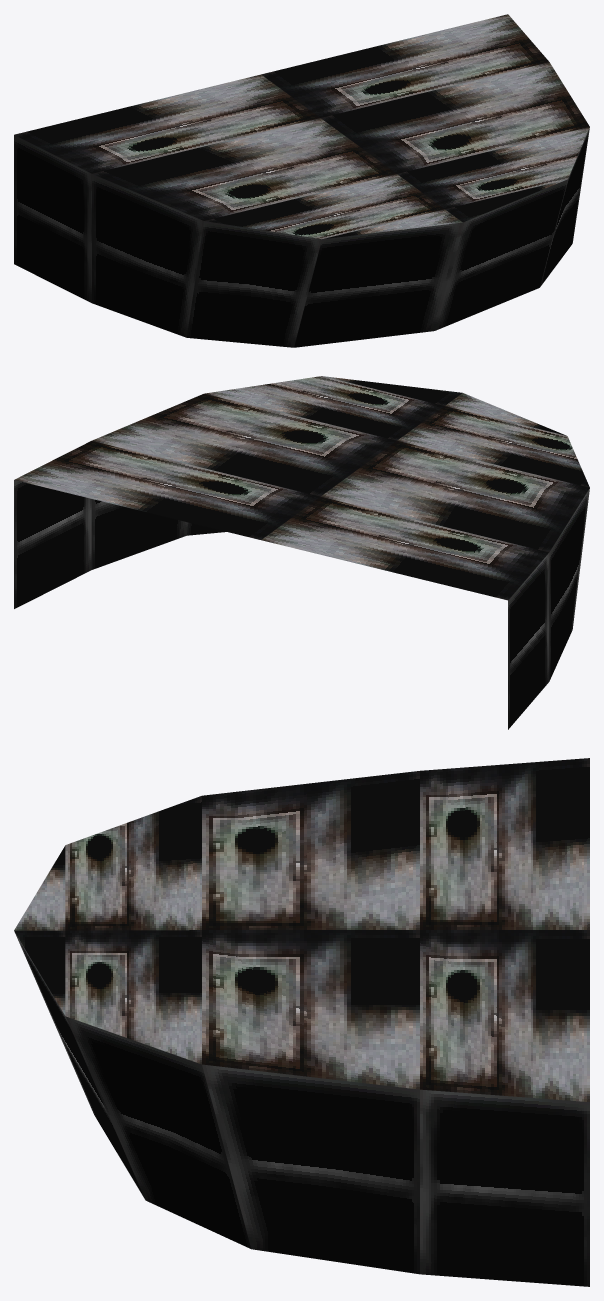
3 renders of one model, top to bottom at view 1: azimuth 30°, elevation 25°; view 2: azimuth 150°, elevation 25°; view 3: azimuth 270°, elevation 25°, orthographic. The views are drawn at different scales.
Parts seen in each view (by area): view 1: prim130-stern; view 2: prim130-stern; view 3: prim130-stern.
Part boxes in pixels (left/top/right/bottom): prim130-stern: left=14, top=14, right=589, bottom=347; prim130-stern: left=14, top=376, right=589, bottom=729; prim130-stern: left=14, top=758, right=589, bottom=1286.
Size of the model in its own units: 1534 by 384 by 1085.
2 materials, 2 textured.
